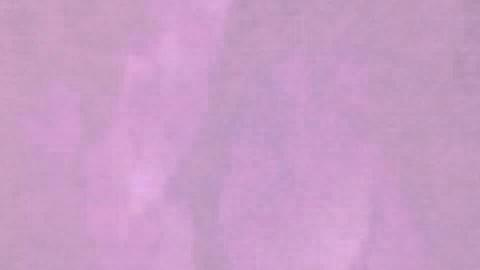tomato: (293, 128, 478, 268)
